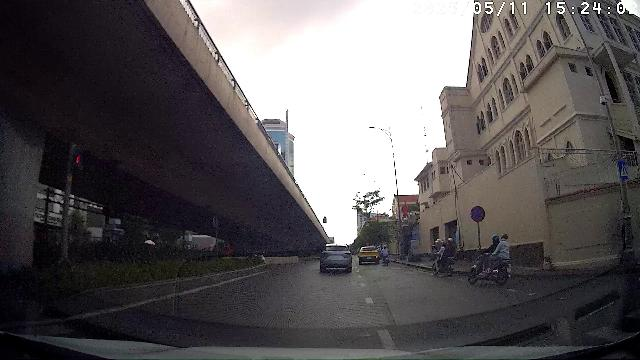130-cam-dung-va-do-xe: (470, 206, 486, 222)
